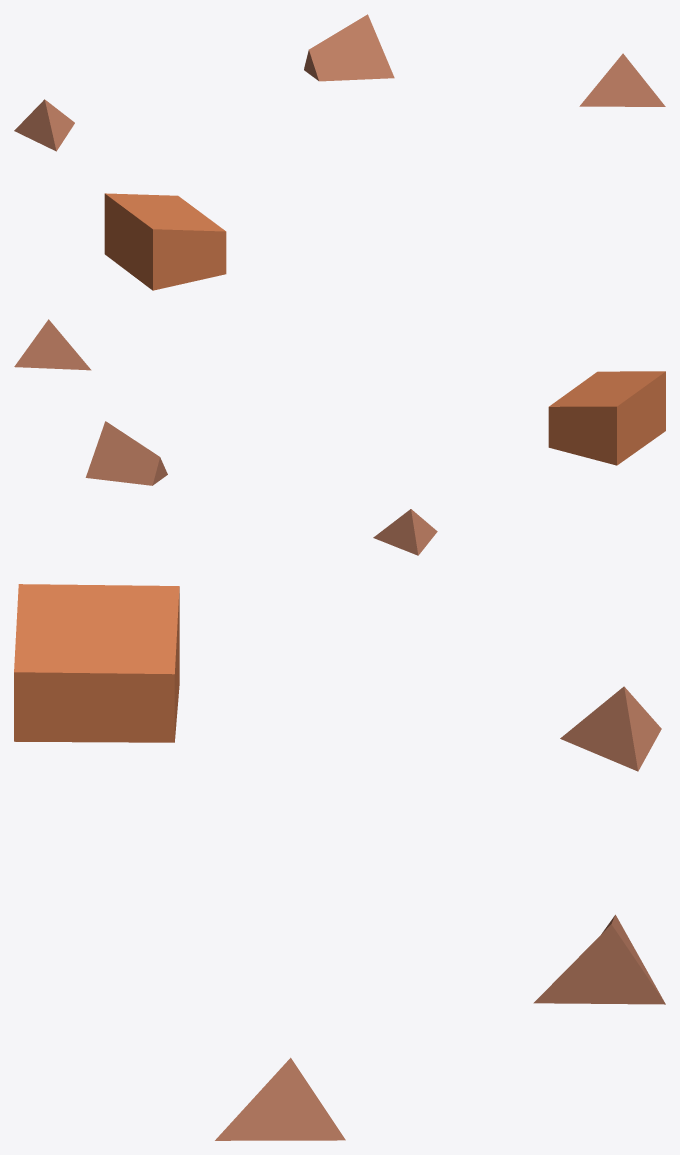
Rendered from Brick_Pile_s_02.fbx.
3 renders of one model, top to bottom at view 1: azimuth 30°, elevation 25°; view 2: azimuth 150°, elevation 25°; view 3: azimuth 270°, elevation 25°, orthographic. The views are drawn at different scales.
Visible parts, largest first — view 1: Brick_Pile_s_02; view 2: Brick_Pile_s_02; view 3: Brick_Pile_s_02.
Part boxes in pixels (bbox=[...]): Brick_Pile_s_02: bbox=[14, 14, 665, 290]; Brick_Pile_s_02: bbox=[14, 319, 665, 555]; Brick_Pile_s_02: bbox=[14, 584, 665, 1140].
Size of the model in its own units: 50.32 by 5.25 by 30.4.
